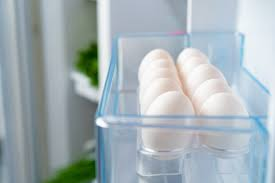eggs: (138, 49, 257, 156)
